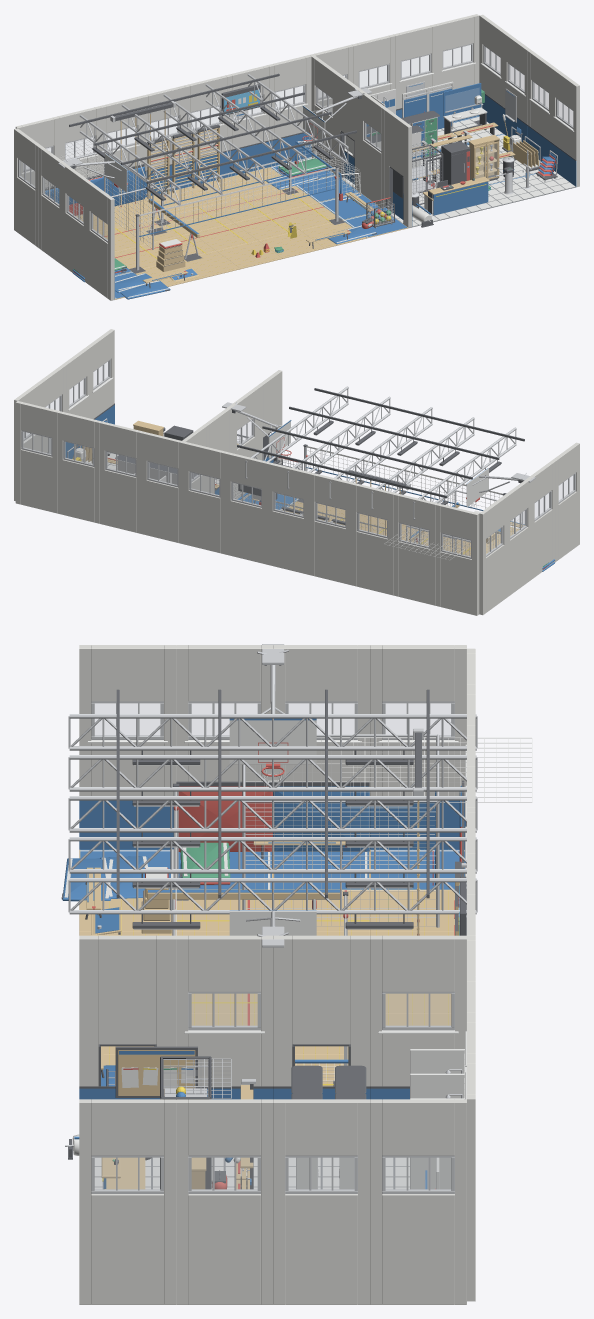
The model's file is city_tower.glb.
3 views of the same model, one above another, from view 1: azimuth 30°, elevation 25°; view 2: azimuth 150°, elevation 25°; view 3: azimuth 270°, elevation 25° (orthographic). The views are drawn at different scales.
Visible parts, largest first — view 1: 058-hall-wall-module/0, 056-hall-wall-module/0, 054-hall-wall-module/0, 055-hall-wall-module/0, 057-hall-wall-module/0, 065-hall-wall-module/0, 066-hall-wall-module-doorway/0, 050-hall-wall-module/0, 053-hall-wall-module/0, 062-hall-wall-module/0, 080-volleyball-post-pair/3, 064-hall-wall-module-doorway/0 (+84 smaller); view 2: 044-hall-wall-module/0, 050-hall-wall-module/0, 051-hall-wall-module/0, 054-hall-wall-module/0, 052-hall-wall-module/0, 053-hall-wall-module/0, 047-hall-wall-module/0, 048-hall-wall-module/0, 049-hall-wall-module/0, 046-hall-wall-module/0, 045-hall-wall-module/0, 055-hall-wall-module/0 (+36 smaller); view 3: 062-hall-wall-module/0, 060-hall-wall-module/0, 061-hall-wall-module/0, 059-hall-wall-module/0, 064-hall-wall-module-doorway/0, 066-hall-wall-module-doorway/0, 065-hall-wall-module/0, 058-hall-wall-module/0, 063-hall-wall-module/0, 055-hall-wall-module/0, 057-hall-wall-module/0, 056-hall-wall-module/0 (+60 smaller).
Part boxes in pixels (box(x1,y1,x2,y2)): 058-hall-wall-module/0: box(86, 181, 114, 300); 056-hall-wall-module/0: box(38, 146, 65, 264); 054-hall-wall-module/0: box(435, 14, 479, 91); 055-hall-wall-module/0: box(14, 128, 41, 247); 057-hall-wall-module/0: box(62, 164, 89, 282); 065-hall-wall-module/0: box(360, 91, 387, 208); 066-hall-wall-module-doorway/0: box(384, 109, 411, 227); 050-hall-wall-module/0: box(267, 55, 311, 140); 053-hall-wall-module/0: box(393, 24, 437, 109); 062-hall-wall-module/0: box(552, 68, 579, 187); 080-volleyball-post-pair/3: box(139, 167, 335, 234); 064-hall-wall-module-doorway/0: box(335, 73, 362, 191); 044-hall-wall-module/0: box(435, 503, 479, 615); 050-hall-wall-module/0: box(183, 442, 226, 554); 051-hall-wall-module/0: box(141, 431, 185, 543); 054-hall-wall-module/0: box(15, 401, 59, 513); 052-hall-wall-module/0: box(99, 421, 143, 533); 053-hall-wall-module/0: box(57, 411, 100, 523); 047-hall-wall-module/0: box(309, 472, 352, 584); 048-hall-wall-module/0: box(267, 462, 310, 574); 049-hall-wall-module/0: box(225, 452, 268, 564); 046-hall-wall-module/0: box(351, 483, 394, 595); 045-hall-wall-module/0: box(393, 493, 436, 605); 055-hall-wall-module/0: box(479, 496, 507, 615); 062-hall-wall-module/0: box(79, 1099, 176, 1304); 060-hall-wall-module/0: box(273, 1099, 369, 1304); 061-hall-wall-module/0: box(176, 1099, 272, 1304); 059-hall-wall-module/0: box(370, 1099, 466, 1304); 064-hall-wall-module-doorway/0: box(273, 935, 369, 1086); 066-hall-wall-module-doorway/0: box(79, 935, 176, 1086); 065-hall-wall-module/0: box(176, 935, 272, 1086); 058-hall-wall-module/0: box(79, 645, 176, 795); 063-hall-wall-module/0: box(370, 935, 466, 1086); 055-hall-wall-module/0: box(370, 645, 466, 795); 057-hall-wall-module/0: box(176, 645, 272, 781); 056-hall-wall-module/0: box(273, 645, 369, 795).
Size of the model in its own units: 22.43 by 4.65 by 9.71.
